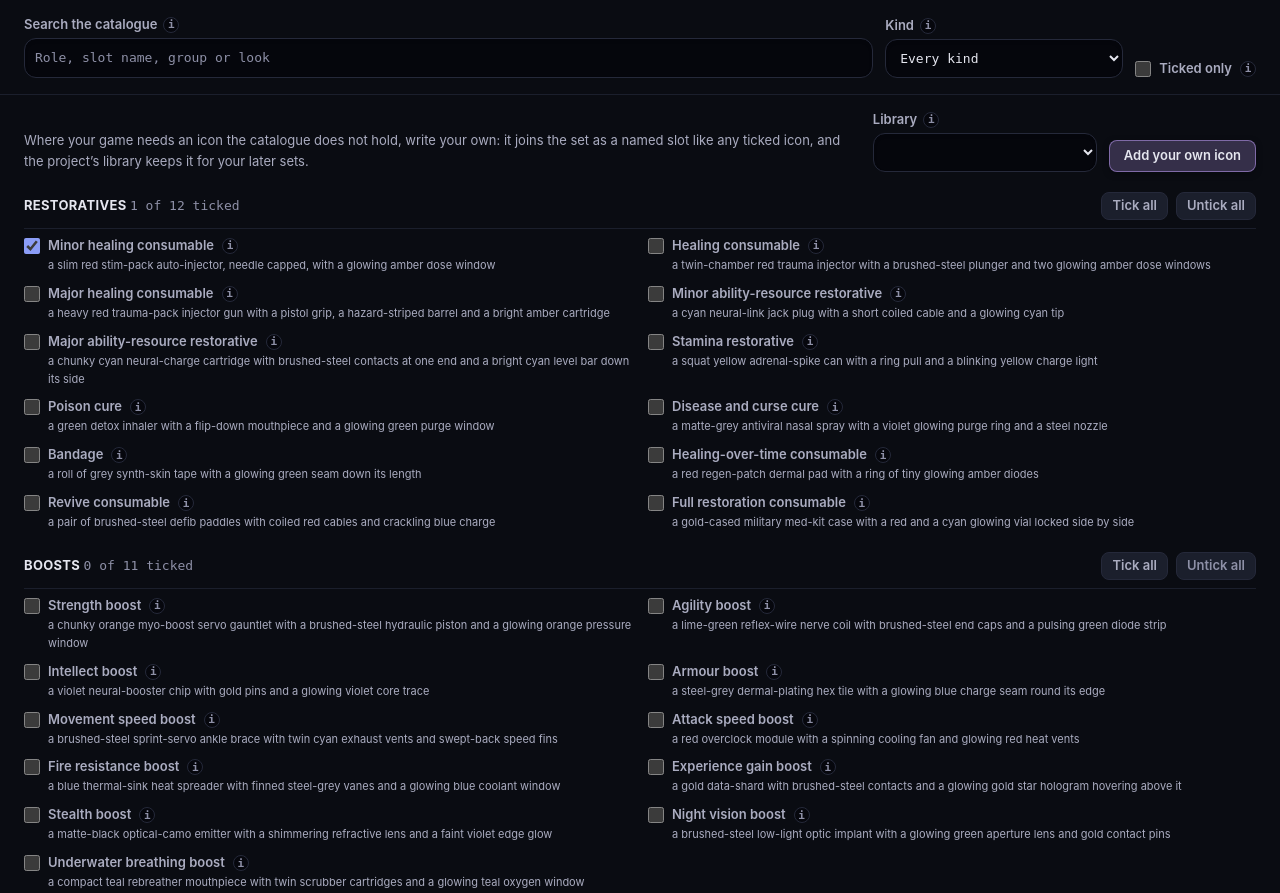
IconCatalogueContents › filters rows by search, kind and ticked only, without touching the set
Select "Interface and system" in the dropdown labelled "Kind" at (1004, 58), box [885,39,1123,78]
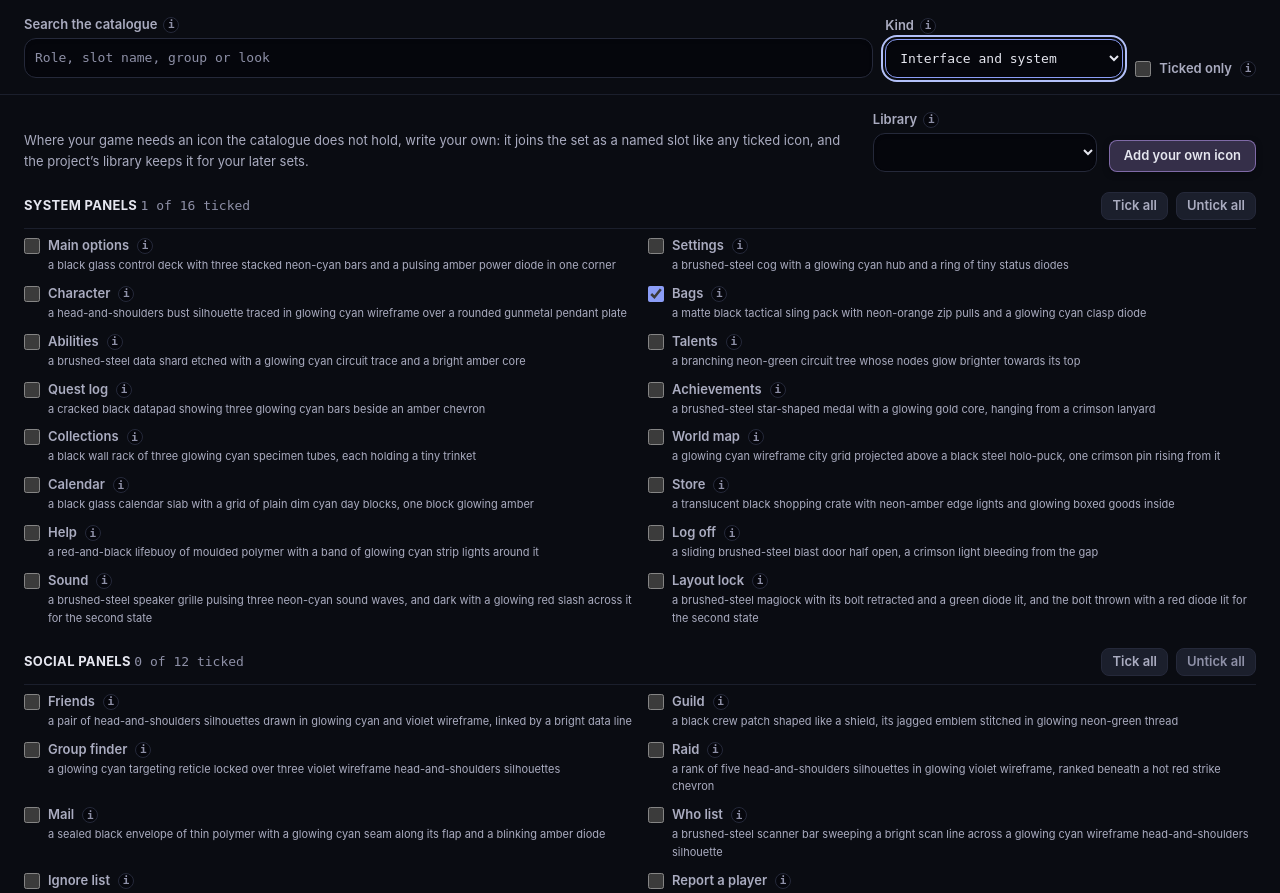
Select "Every kind" in the dropdown labelled "Kind" at (1004, 58), box [885,39,1123,78]
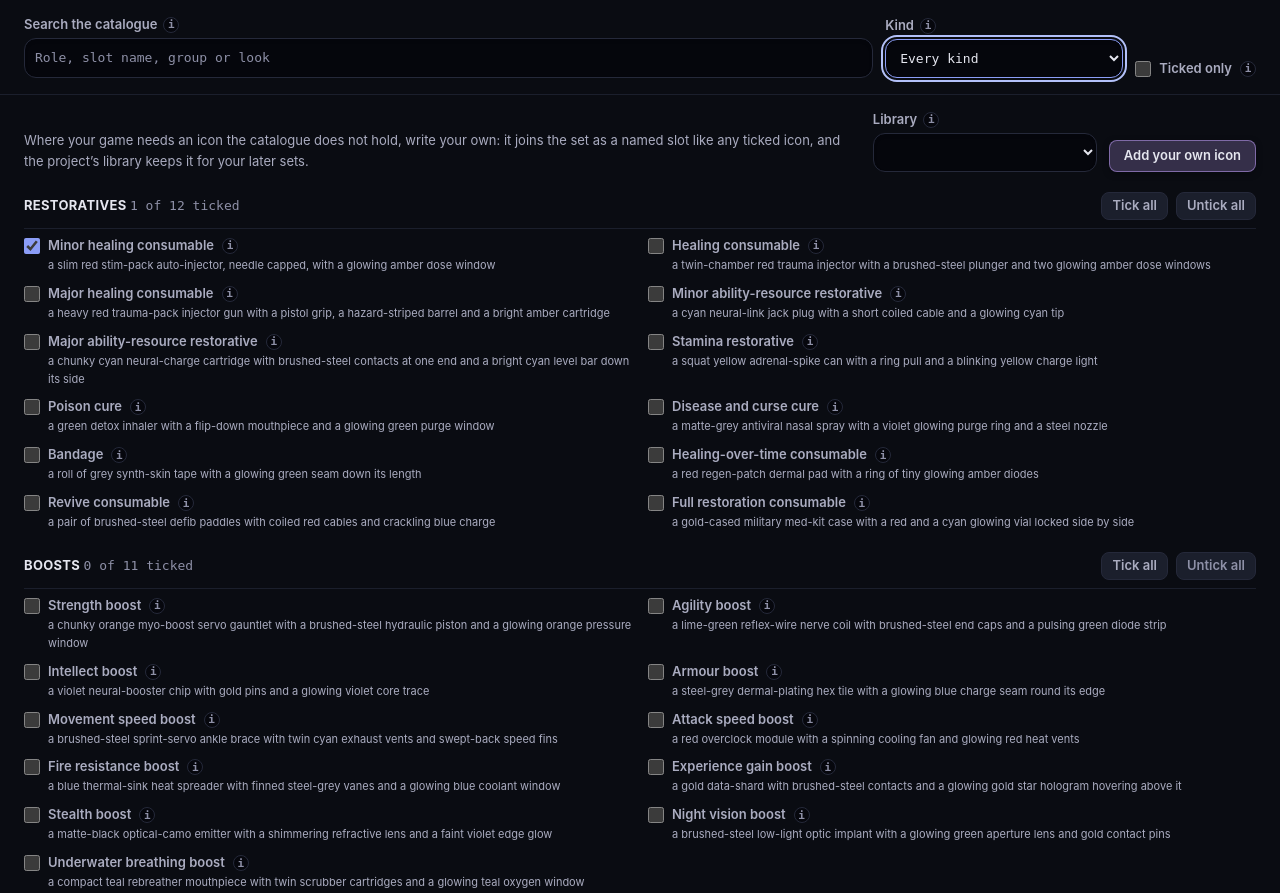
Click the checkbox labelled "Ticked only" at (1143, 69), box [1135,61,1151,77]
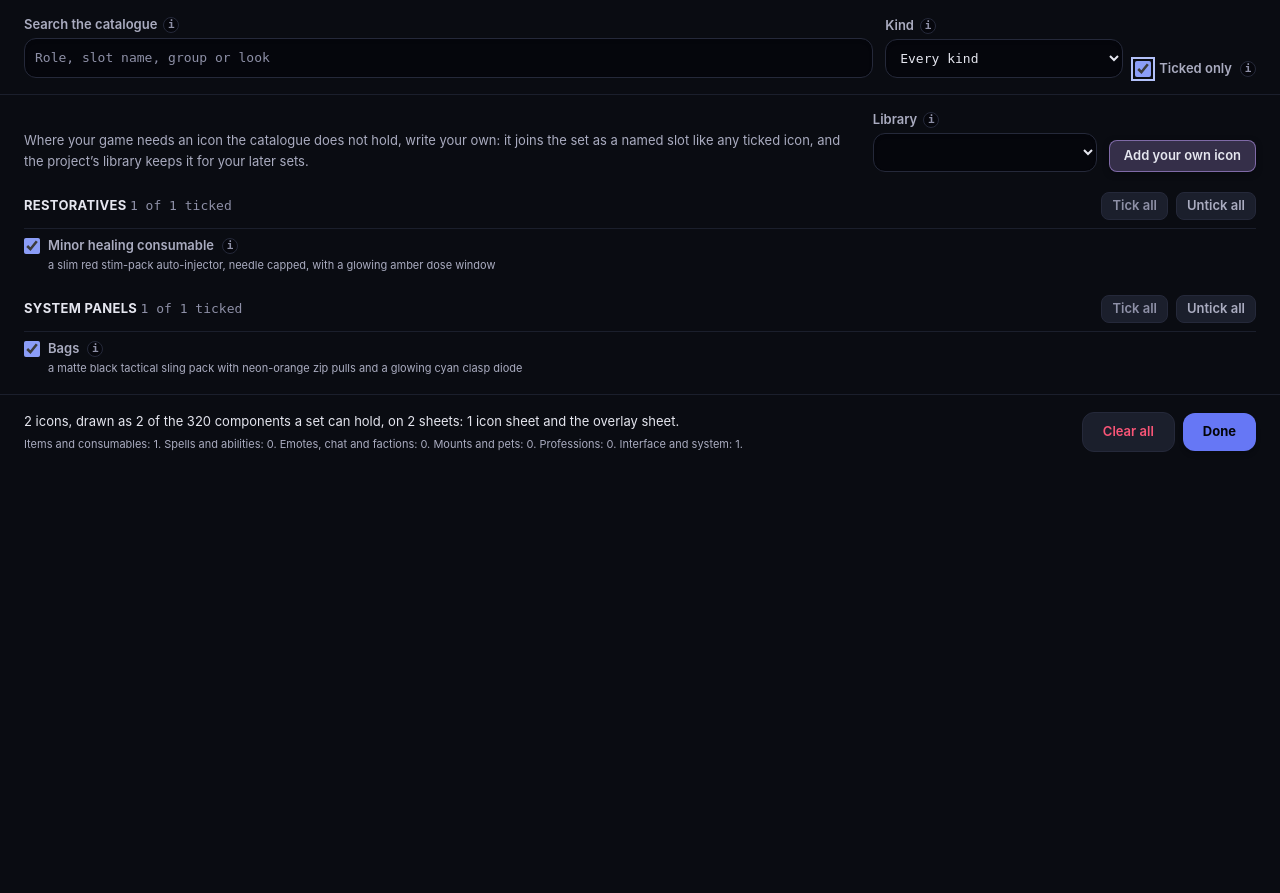
Type "no such icon" into the field labelled "Search the catalogue" at (449, 58), box [24,38,873,78]
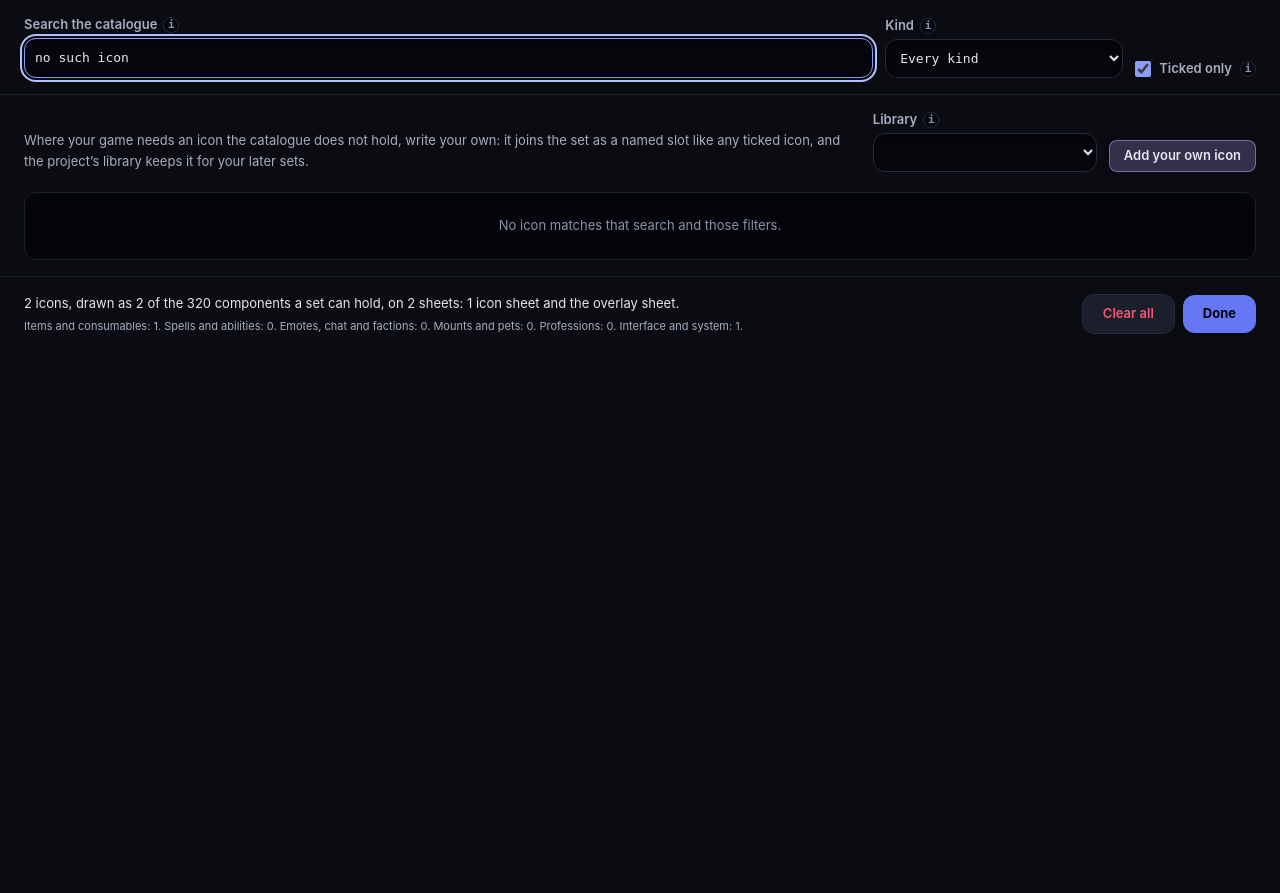
Now the text "No icon matches that search and those filters." is shown, box [24,192,1256,260]
